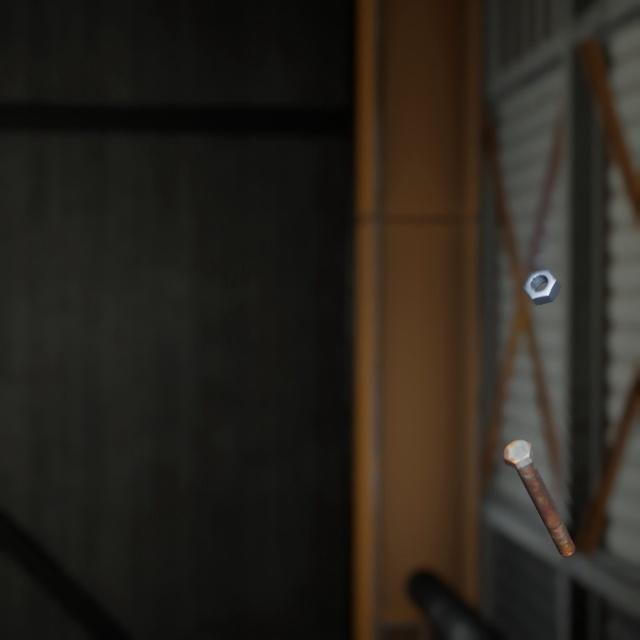bolt: (498, 412, 579, 541)
nut: (518, 247, 565, 292)
